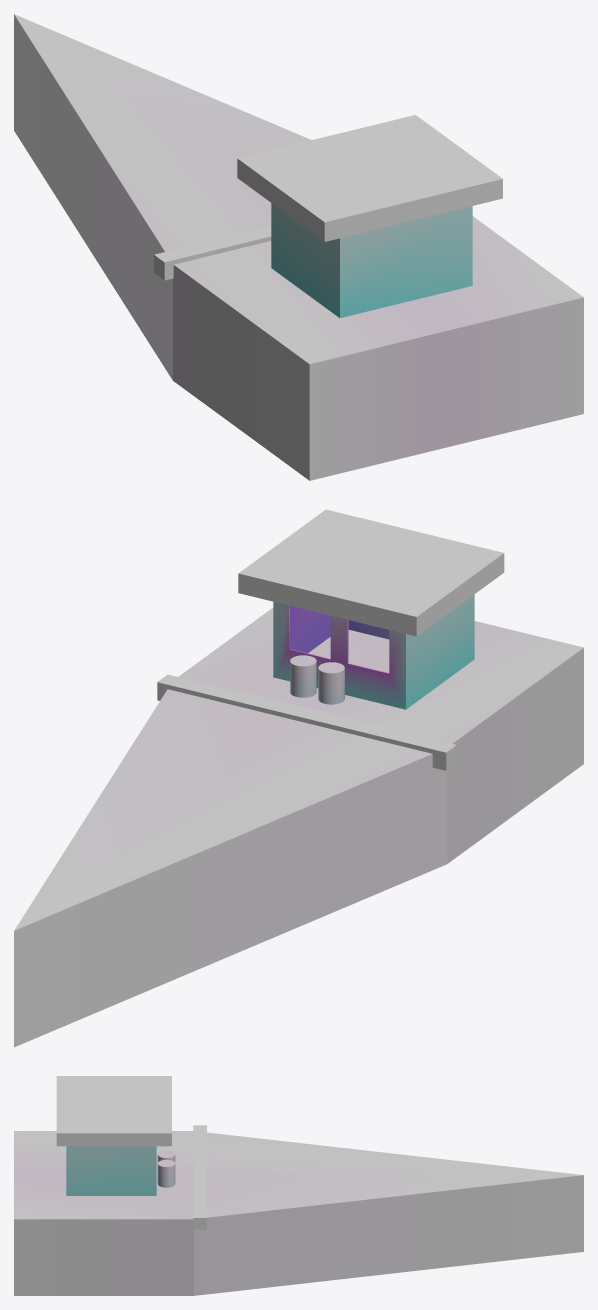
3 views of the same model, one above another, from view 1: azimuth 30°, elevation 25°; view 2: azimuth 150°, elevation 25°; view 3: azimuth 270°, elevation 25° (orthographic). The views are drawn at different scales.
Parts seen in each view (by area): view 1: hull, roof, cabin, cross_bar; view 2: hull, roof, cabin, cross_bar, deck_cylinder, deck_cylinder.001; view 3: hull, roof, cabin, cross_bar, deck_cylinder.001.
Part boxes in pixels (x1,y1,x2,y2): hull: [14, 14, 583, 480]; roof: [237, 115, 502, 241]; cabin: [271, 203, 472, 317]; cross_bar: [154, 226, 271, 280]; hull: [14, 607, 583, 1047]; roof: [238, 509, 504, 636]; cabin: [273, 594, 474, 709]; cross_bar: [157, 674, 456, 770]; deck_cylinder: [318, 662, 344, 704]; deck_cylinder.001: [290, 655, 316, 697]; hull: [14, 1131, 583, 1295]; roof: [56, 1076, 171, 1146]; cabin: [66, 1146, 156, 1195]; cross_bar: [193, 1125, 206, 1229]; deck_cylinder.001: [157, 1159, 175, 1187].
Size of the model in its own units: 38.55 by 28.46 by 100.
